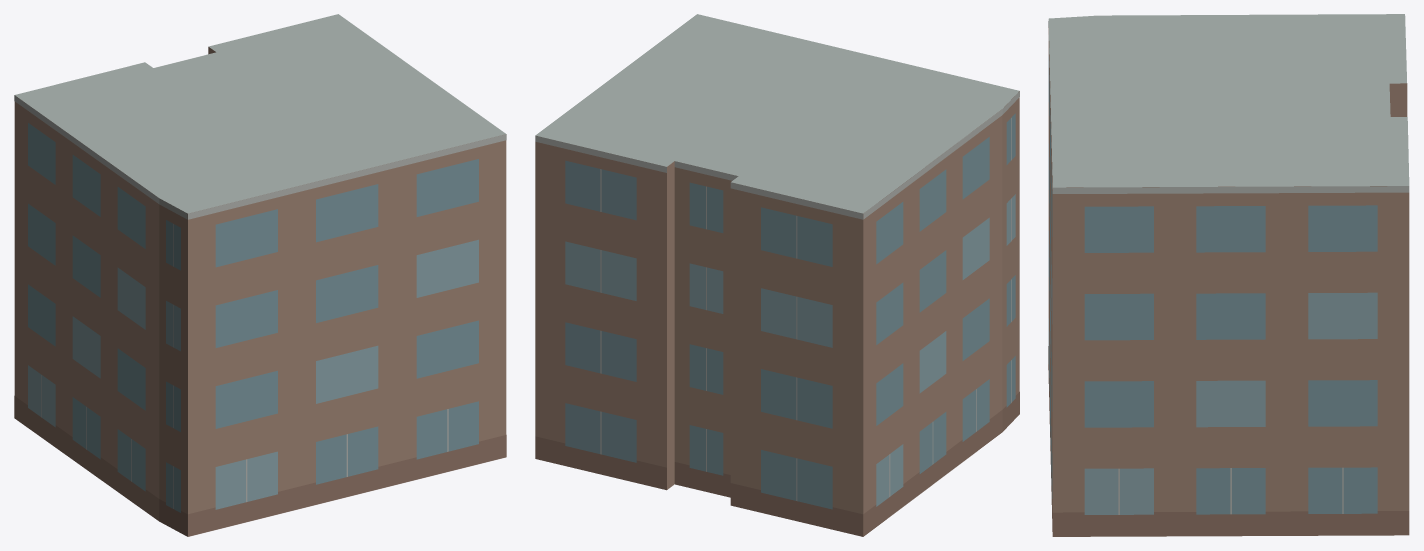
Rendered from survey-upis-32489161.glb.
The picture shows the model from 3 angles, left to right: view 1: azimuth 30°, elevation 25°; view 2: azimuth 150°, elevation 25°; view 3: azimuth 270°, elevation 25°; orthographic projection. The views are drawn at different scales.
Parts seen in each view (by area): view 1: survey-upis-32489161.tmp; view 2: survey-upis-32489161.tmp; view 3: survey-upis-32489161.tmp.
Boxes of the visible parts, x1,y1,x2,y2 form: survey-upis-32489161.tmp: [14, 14, 506, 536]; survey-upis-32489161.tmp: [535, 14, 1019, 536]; survey-upis-32489161.tmp: [1048, 14, 1409, 536].
Bounding box in the file's own units: 13.7 × 12.85 × 12.04.
